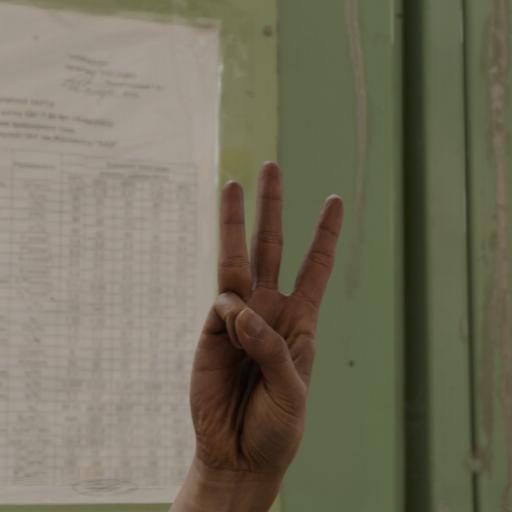W: (183, 158, 350, 470)
